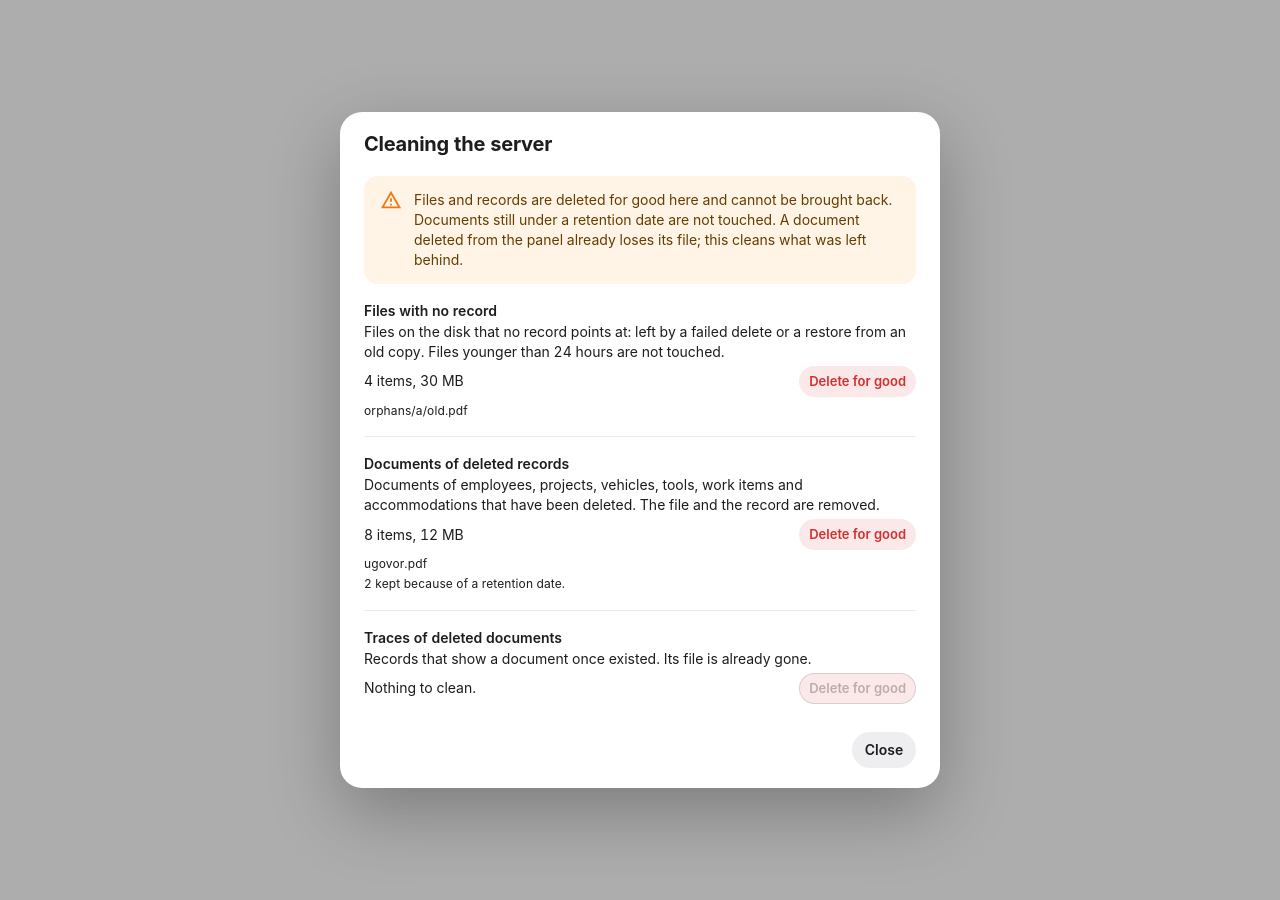
Scenario: StorageCleanupDialog › deletes nothing until the person confirms, then deletes that kind only and says what it freed
Click the button "Delete for good" in the row of "4 items, 30 MB" at {"x": 858, "y": 381}, box [799,366,916,397]
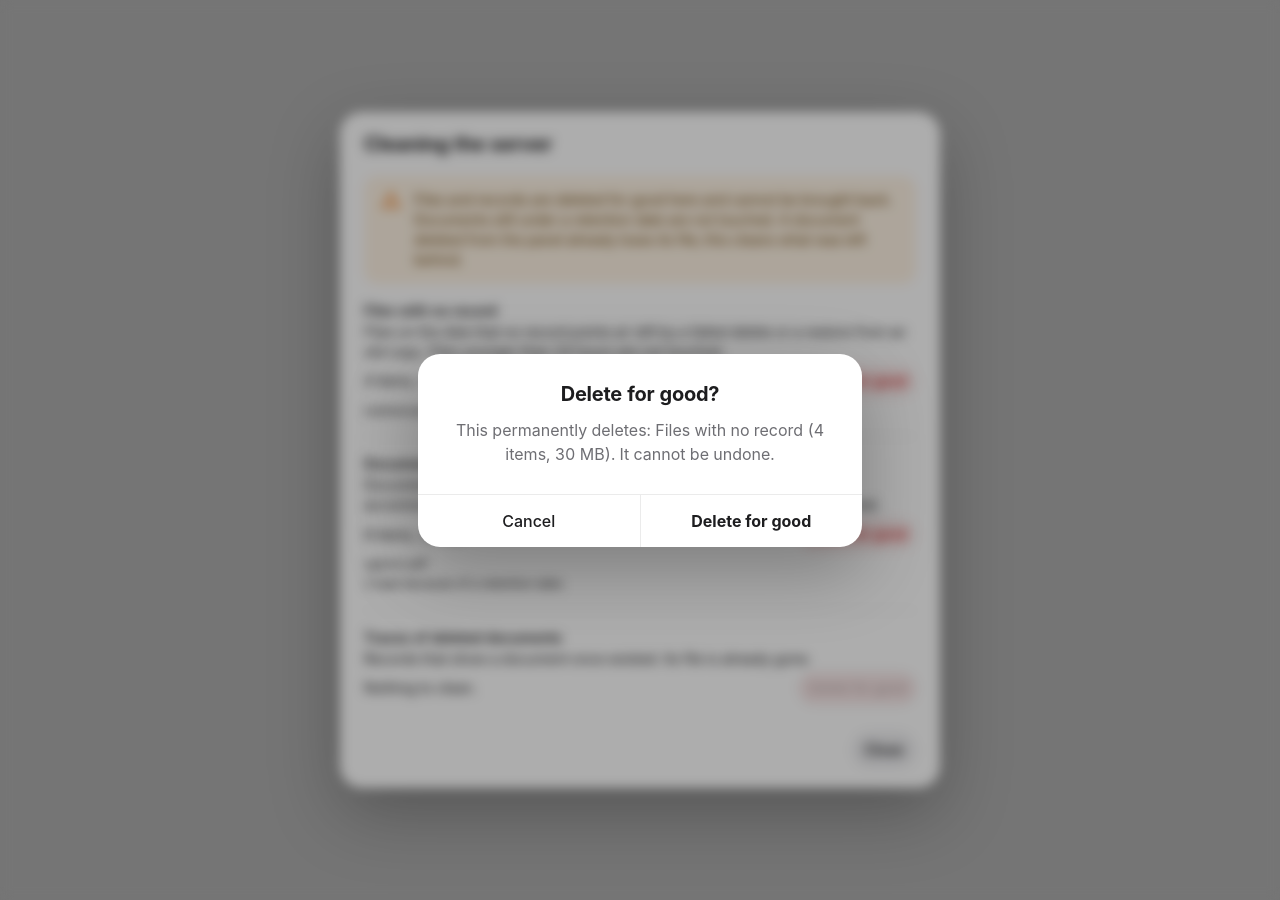
Expected: the heading "Delete for good?" is shown, [561,382,719,406]
Click the button "Delete for good" at {"x": 751, "y": 520}, box [640,494,862,546]
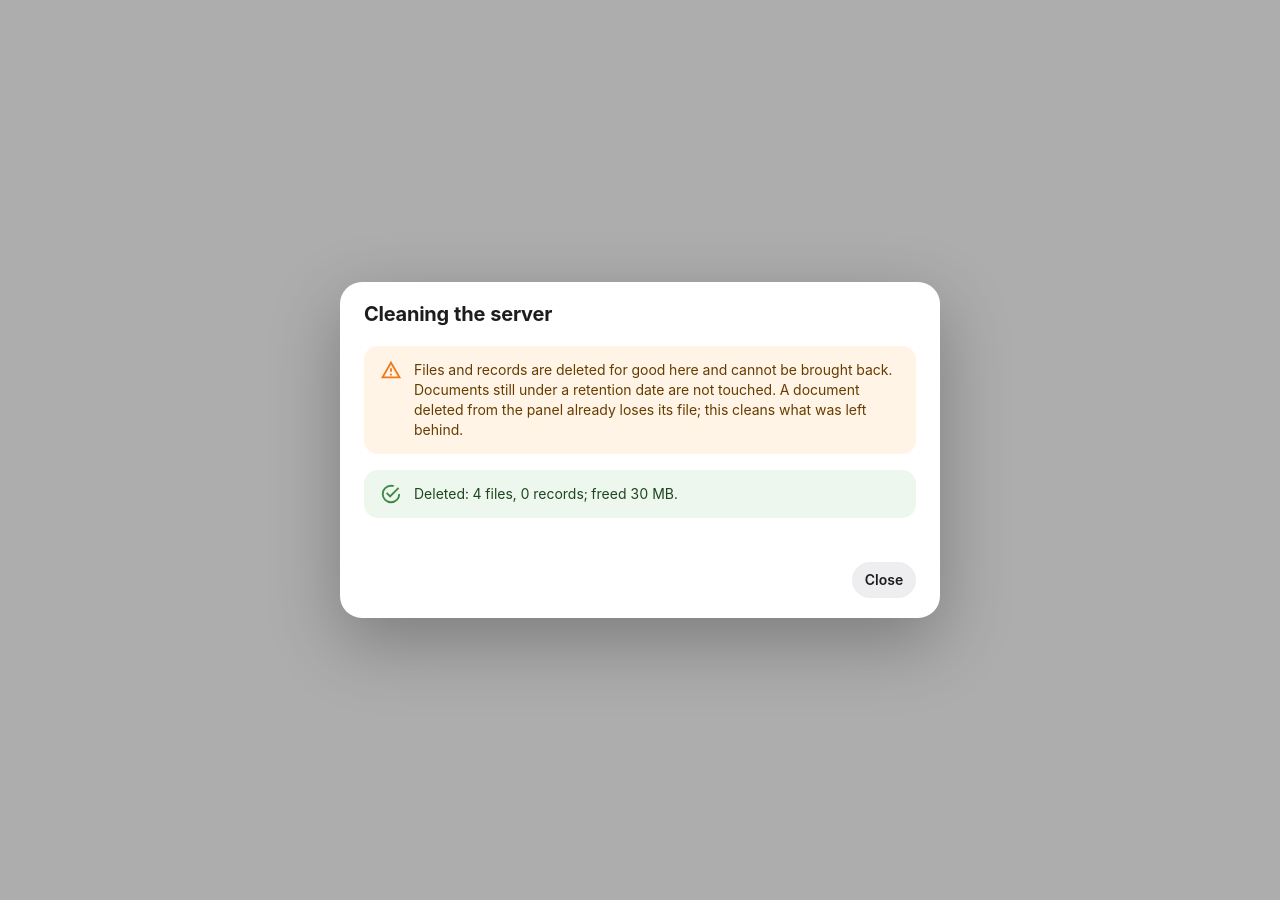
Expected: the message with test id "cleanup-result" reads "Deleted: 4 files, 0 records; freed 30 MB.", [414,485,678,502]
